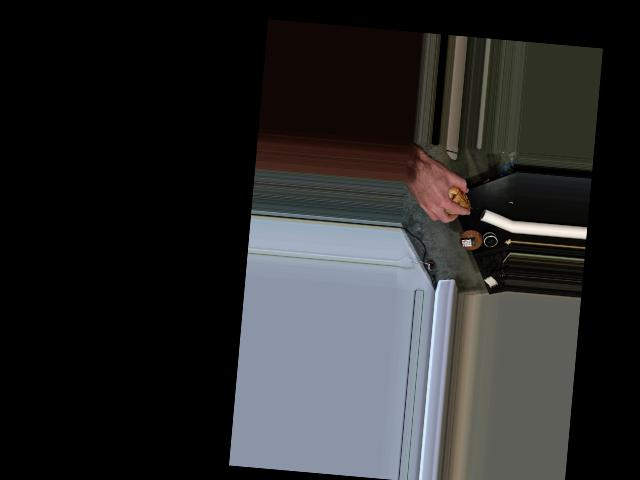onion: (428, 175, 474, 215)
